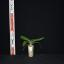leaf: (30, 37, 45, 44), (20, 36, 30, 42), (31, 42, 41, 47), (23, 44, 30, 51), (23, 41, 30, 47)
